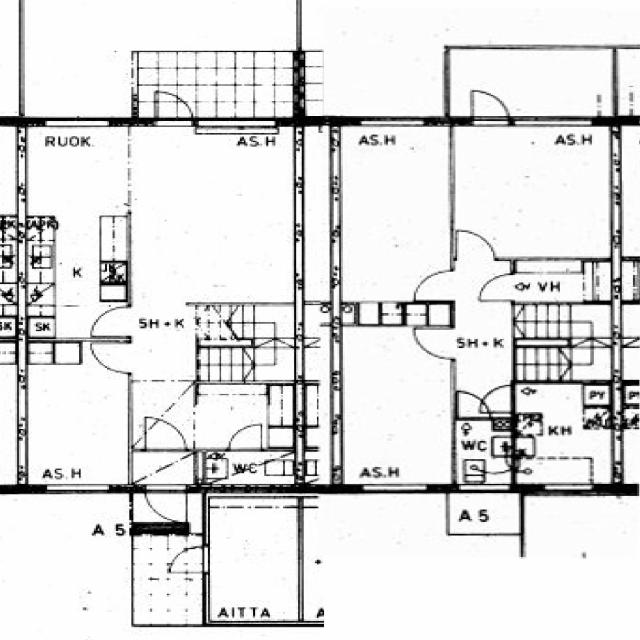door: (146, 485, 188, 527), (472, 86, 508, 126), (146, 417, 185, 453), (156, 88, 192, 126), (456, 226, 494, 262), (413, 328, 454, 358), (92, 344, 132, 374), (92, 308, 132, 337), (414, 272, 454, 301), (478, 386, 516, 413), (458, 391, 490, 422), (479, 274, 516, 300), (229, 423, 261, 453), (173, 548, 210, 572)
